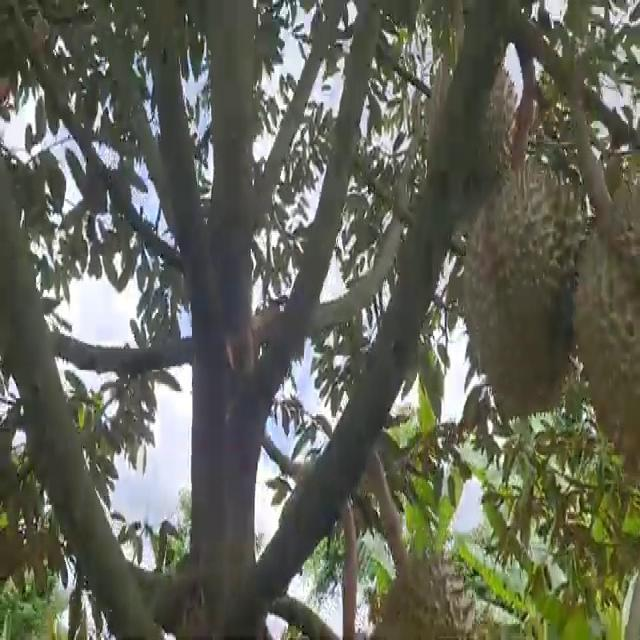durian: (457, 152, 594, 420), (574, 171, 639, 474), (416, 38, 518, 190), (365, 531, 477, 638)
